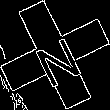N_NW: (26, 24, 84, 86)
